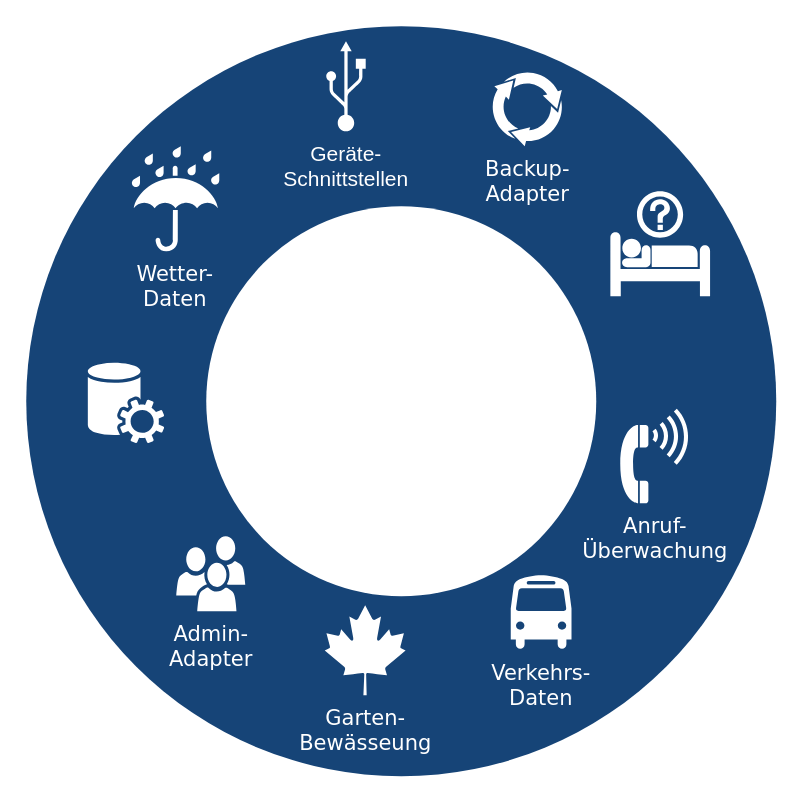
Some shapes in this 801 by 801 pixel diagram are drawn without their labels. Each missing label, with the box of its shape:
Datenbank- Adapter: (87, 362, 164, 442)
ioBroker js-controller: (206, 206, 596, 596)
Szenen- Adapter: (610, 190, 709, 296)
